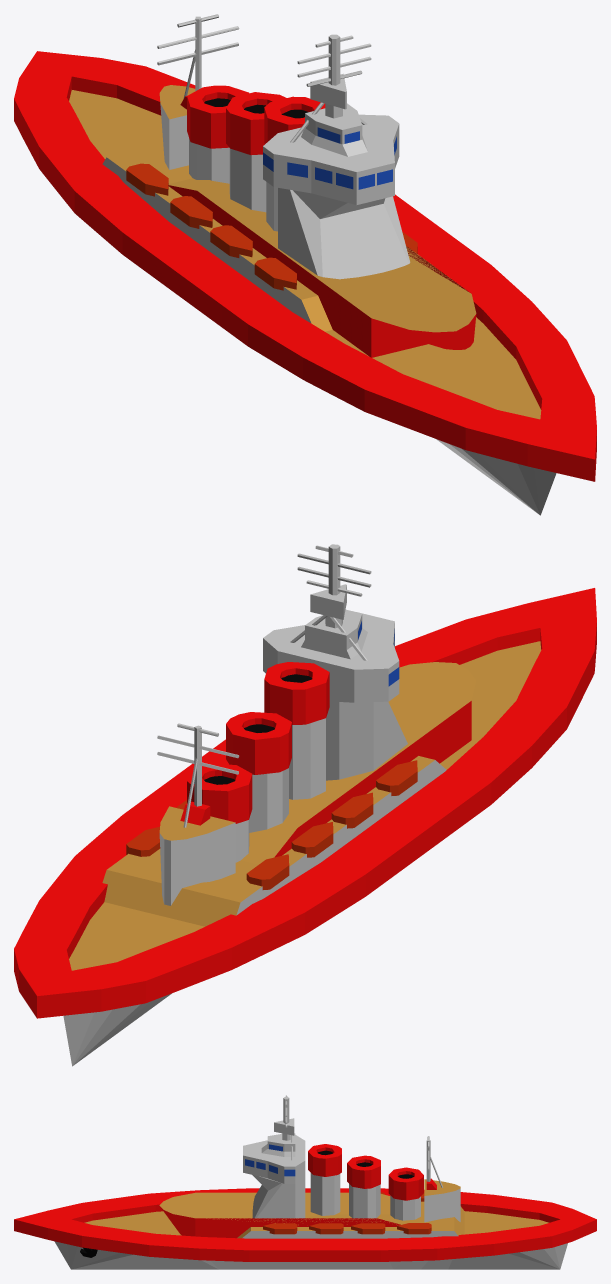
The model's file is c-ship-3.obj.
3 views of the same model, one above another, from view 1: azimuth 30°, elevation 25°; view 2: azimuth 150°, elevation 25°; view 3: azimuth 270°, elevation 25° (orthographic). The views are drawn at different scales.
Visible parts, largest first — view 1: Cube.033; view 2: Cube.033; view 3: Cube.033.
Boxes of the visible parts, x1,y1,x2,y2 form: Cube.033: (14, 14, 596, 515); Cube.033: (14, 544, 596, 1066); Cube.033: (14, 1095, 596, 1269).
Bounding box in the file's own units: 1.46 × 1.89 × 5.81.
